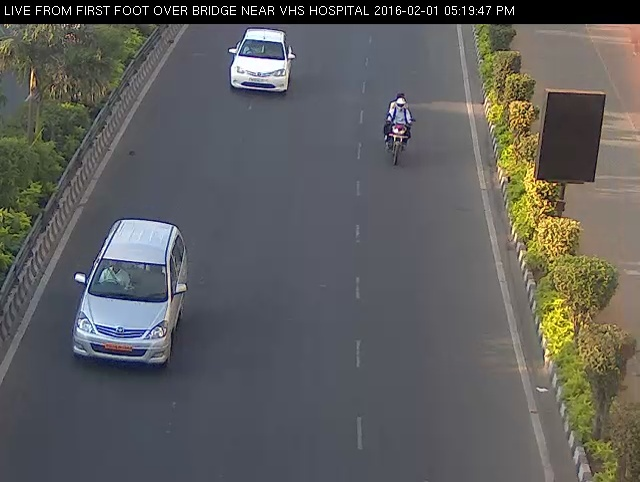Car: (61, 216, 198, 379), (218, 23, 311, 101), (372, 84, 426, 173)
